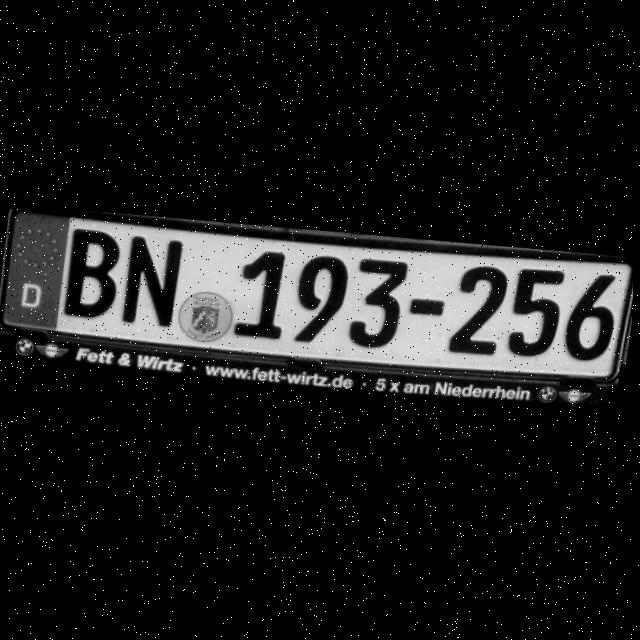license-plates: (0, 211, 634, 383)
